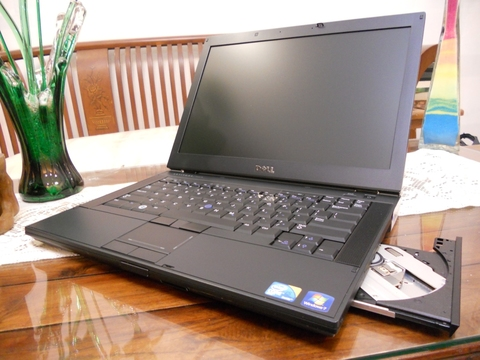Laptop: (19, 6, 434, 341)
